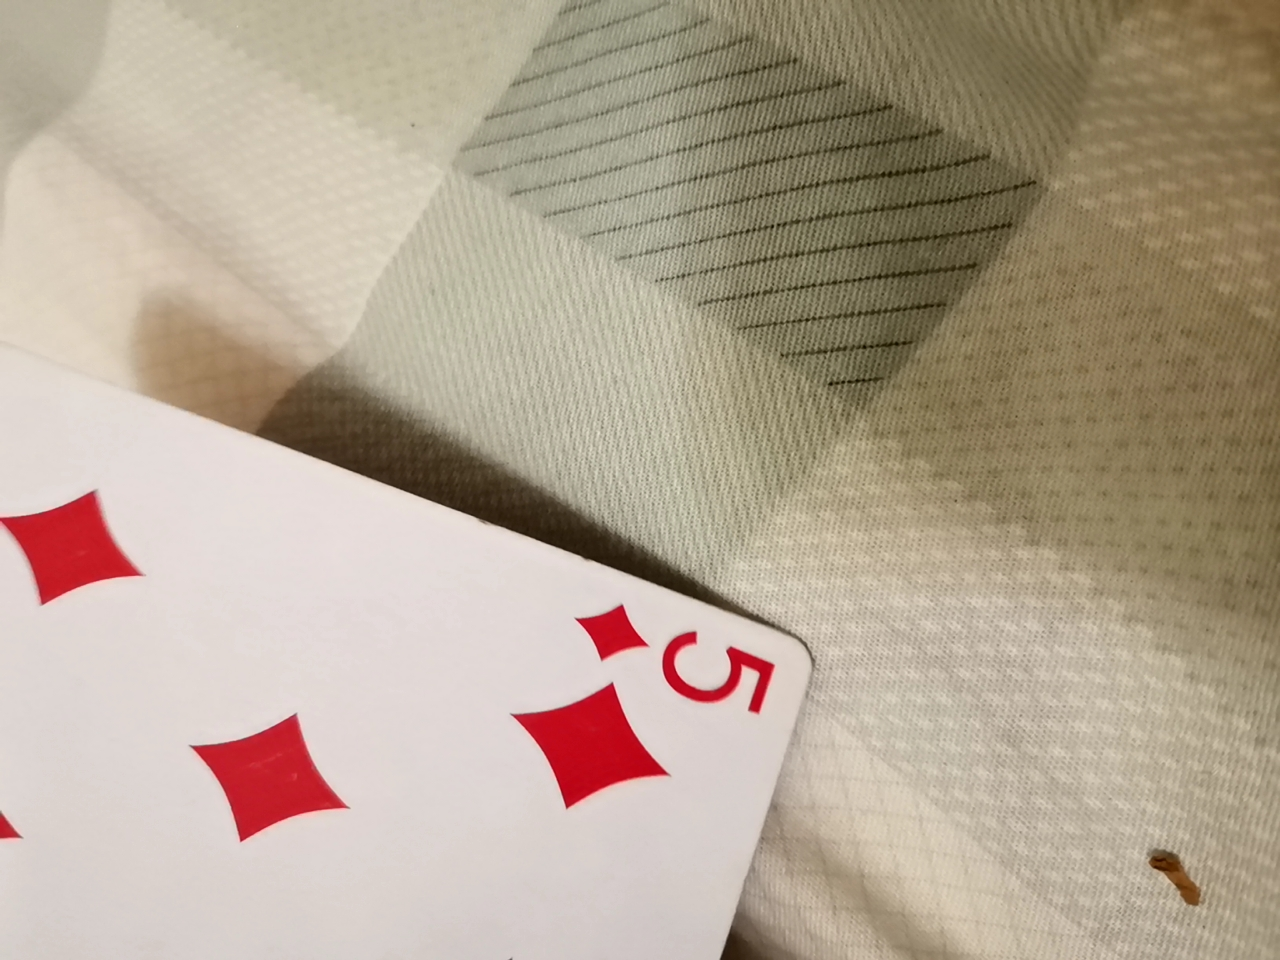fk 5: (3, 356, 821, 955)
